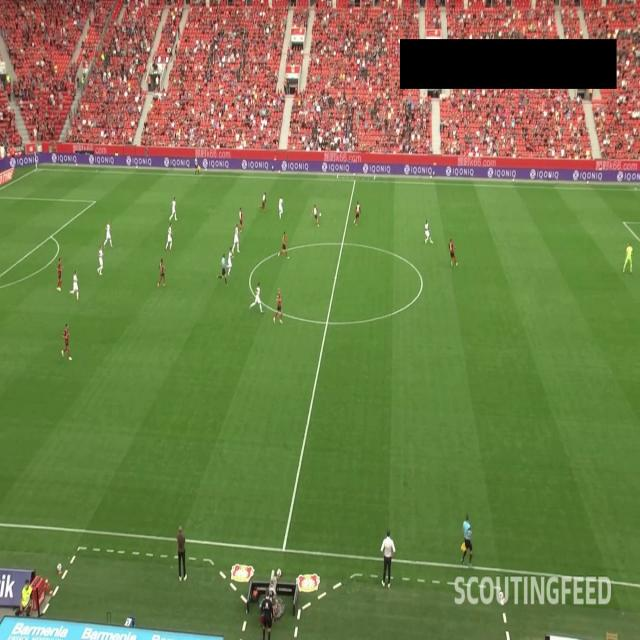ball: (319, 211, 322, 217)
player: (60, 322, 74, 364), (274, 284, 284, 324), (70, 267, 81, 301), (447, 238, 459, 268), (624, 239, 634, 274), (251, 283, 263, 310), (157, 252, 165, 290), (351, 201, 363, 226), (103, 218, 113, 247), (96, 244, 105, 276), (423, 220, 433, 246), (280, 231, 288, 261), (165, 222, 173, 252), (56, 255, 62, 292), (236, 206, 244, 232), (170, 196, 178, 222), (233, 225, 240, 252), (228, 244, 233, 278), (312, 204, 318, 230), (261, 189, 268, 211), (278, 196, 284, 218)
